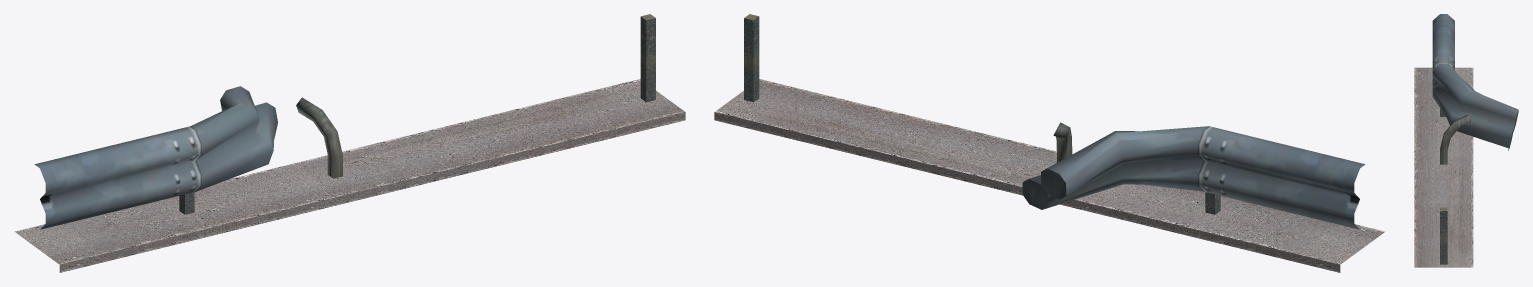
Rendered from M2_Zone4_FlyOver3_A.glb.
3 views of the same model, side by side, from view 1: azimuth 30°, elevation 25°; view 2: azimuth 150°, elevation 25°; view 3: azimuth 270°, elevation 25° (orthographic). The views are drawn at different scales.
Visible parts, largest first — view 1: M2_ZONE4_FLYOVER3_A; view 2: M2_ZONE4_FLYOVER3_A; view 3: M2_ZONE4_FLYOVER3_A.
Boxes of the visible parts, <box> form: M2_ZONE4_FLYOVER3_A: <box>15,14,685,272</box>; M2_ZONE4_FLYOVER3_A: <box>714,14,1384,272</box>; M2_ZONE4_FLYOVER3_A: <box>1414,14,1518,267</box>.
Bounding box in the file's own units: 8 × 1.1 × 1.77.
Materials: 3 (3 with a texture image).
